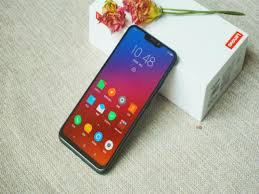lenovo: (52, 20, 177, 174)
